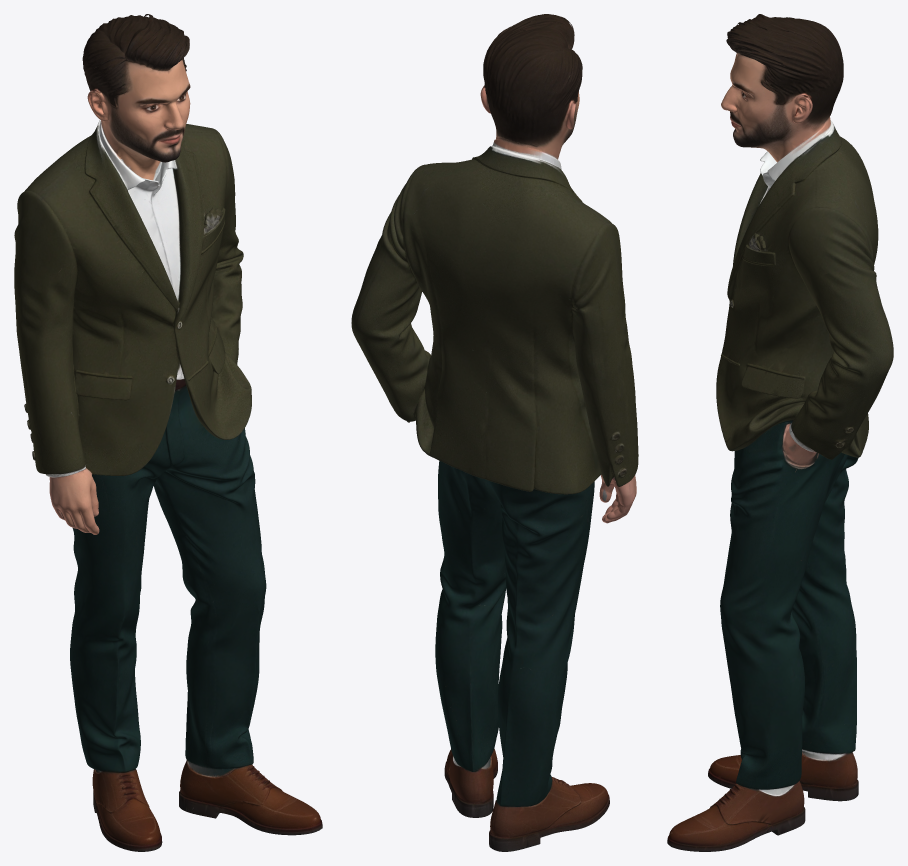
Rendered from suit-enhanced.glb.
3 renders of one model, left to right at view 1: azimuth 30°, elevation 25°; view 2: azimuth 150°, elevation 25°; view 3: azimuth 270°, elevation 25°, orthographic. The views are drawn at different scales.
Size of the model in its own units: 0.6353 by 2 by 0.5305.
1 material, 1 textured.
